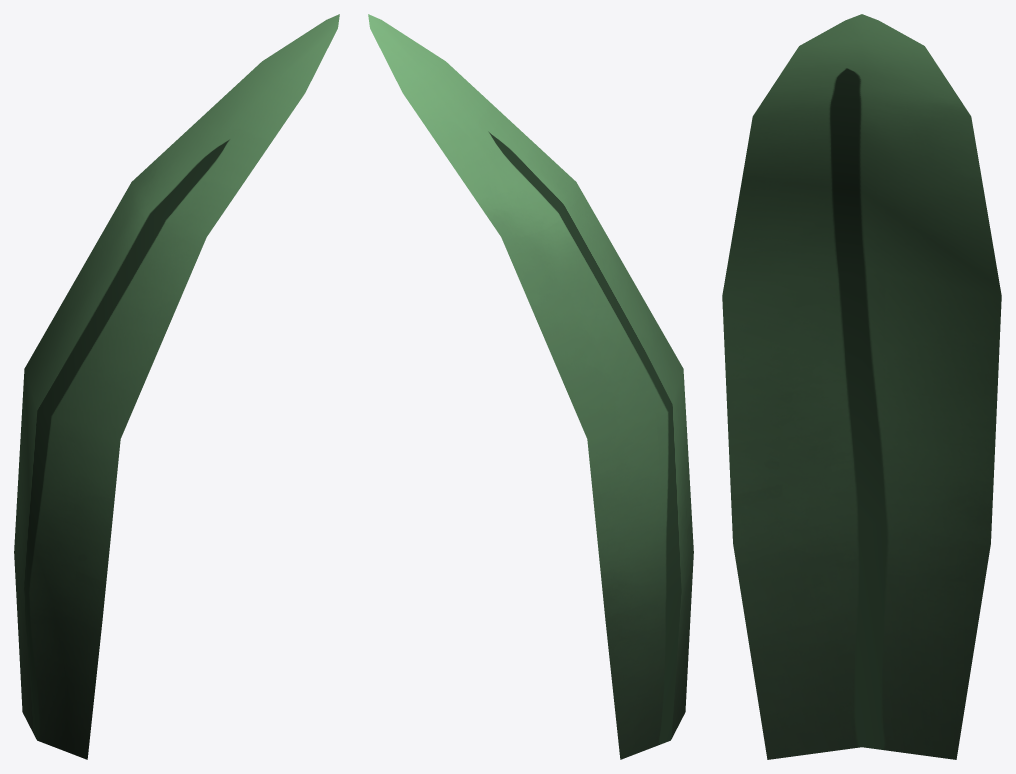
The model's file is cesped_1_v1.fbx.
3 views of the same model, side by side, from view 1: azimuth 30°, elevation 25°; view 2: azimuth 150°, elevation 25°; view 3: azimuth 270°, elevation 25° (orthographic). The views are drawn at different scales.
Parts seen in each view (by area): view 1: cesped_1_v1; view 2: cesped_1_v1; view 3: cesped_1_v1.
Boxes of the visible parts, box(x1,y1,x2,y2) form: cesped_1_v1: box(14, 14, 339, 759); cesped_1_v1: box(368, 14, 693, 759); cesped_1_v1: box(722, 14, 1001, 759).
Size of the model in its own units: 2.64 by 4.96 by 9.87.
